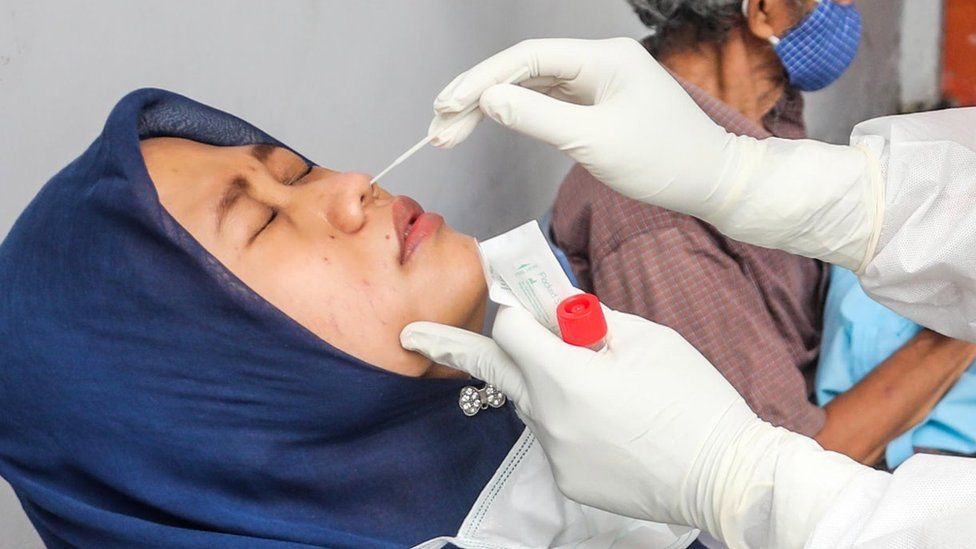Gloves: (425, 27, 883, 273), (396, 279, 769, 540)
with_mask: (778, 1, 868, 100)
without_mask: (168, 108, 481, 319)
